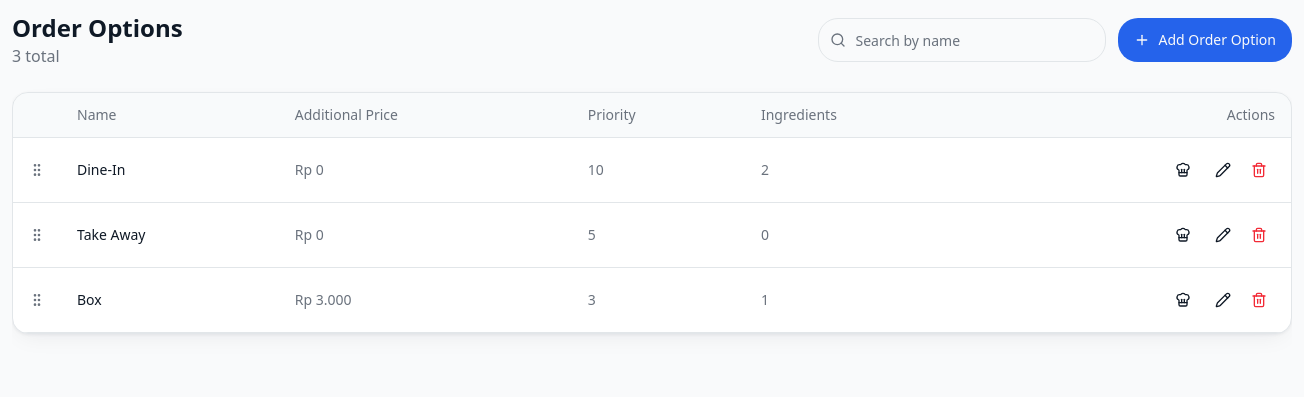
Test case: AdminOrderOptionsPage › disables reorder affordance while search is active
Expected: the text "Dine-In" is shown, x1=61 y1=138 x2=279 y2=202
Expected: the number of buttons named "Drag to reorder" is 3, x1=21 y1=154 x2=53 y2=186; x1=21 y1=219 x2=53 y2=251; x1=21 y1=284 x2=53 y2=316
Type "Din" into the field with placeholder "Search by name" at (962, 40), box x1=818 y1=18 x2=1106 y2=62
Wait 350 ms
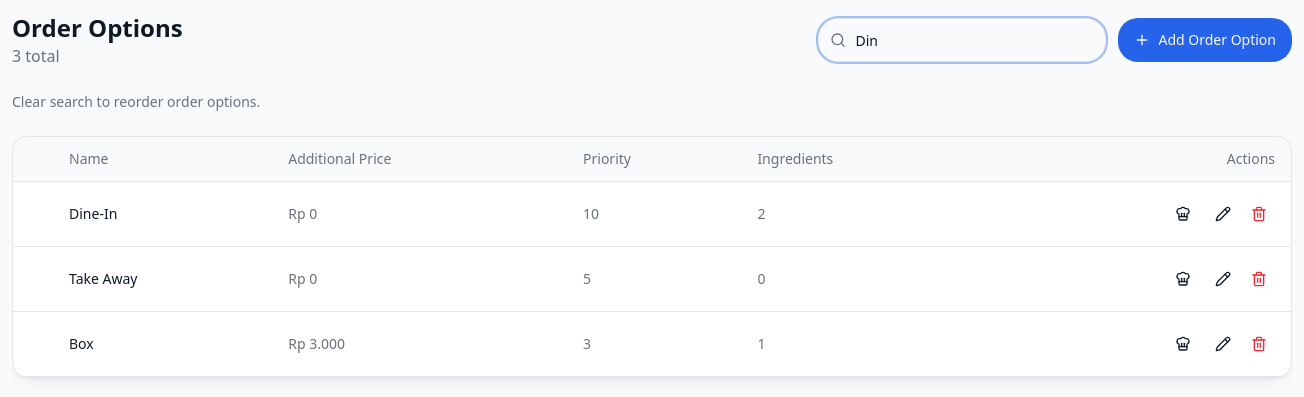
Result: the text "Clear search to reorder order options." is shown at x1=12 y1=92 x2=260 y2=111
